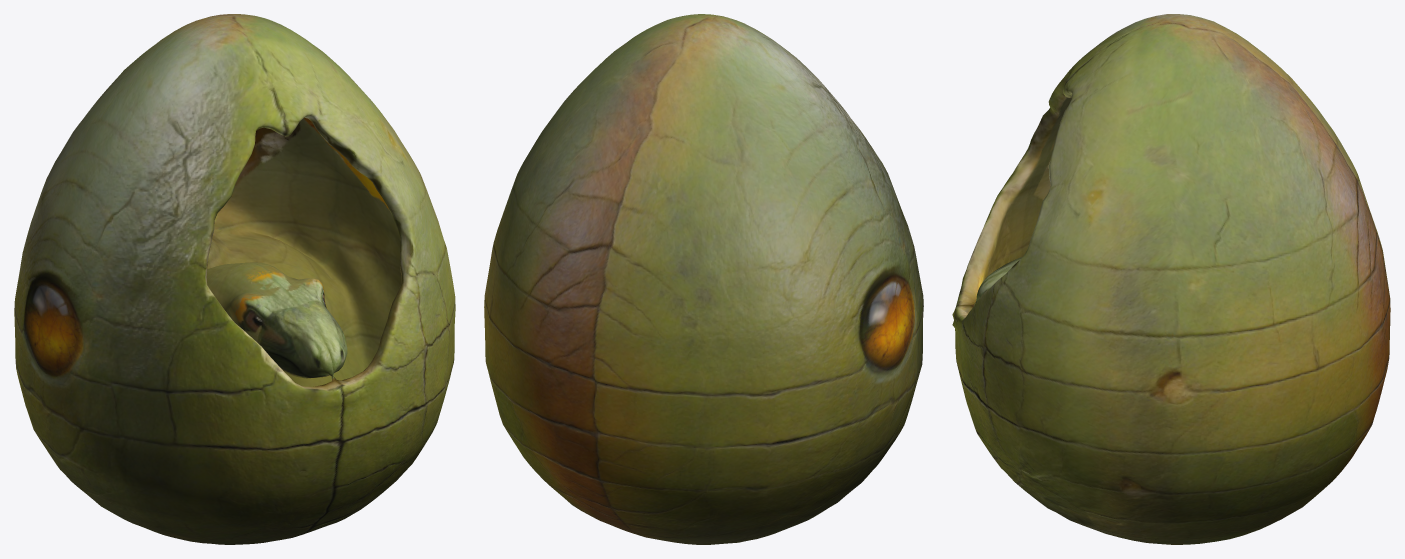
The model's file is dinosuaro.glb.
3 views of the same model, side by side, from view 1: azimuth 30°, elevation 25°; view 2: azimuth 150°, elevation 25°; view 3: azimuth 270°, elevation 25° (orthographic).
Size of the model in its own units: 1.6 by 1.99 by 1.58.
Materials: 1 (1 with a texture image).
